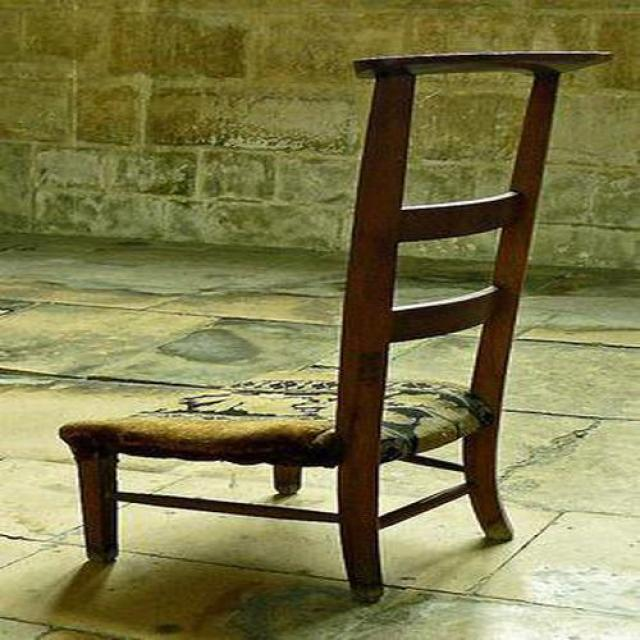chair: (58, 51, 614, 608)
